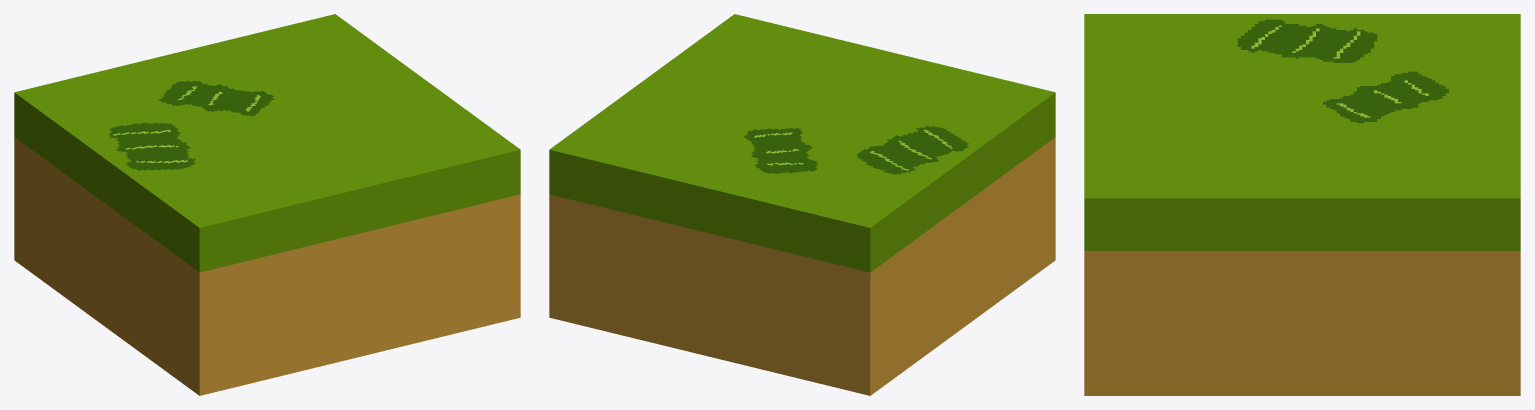
3 renders of one model, left to right at view 1: azimuth 30°, elevation 25°; view 2: azimuth 150°, elevation 25°; view 3: azimuth 270°, elevation 25°, orthographic. The views are drawn at different scales.
Visible parts, largest first — view 1: 16D; view 2: 16D; view 3: 16D.
Boxes of the visible parts, x1,y1,x2,y2 form: 16D: (14,14,520,395); 16D: (549,14,1055,395); 16D: (1084,14,1520,395).
Bounding box in the file's own units: 12.8 × 6.4 × 12.8.
1 material, 1 textured.
